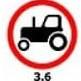road_sign: (5, 0, 79, 71)
